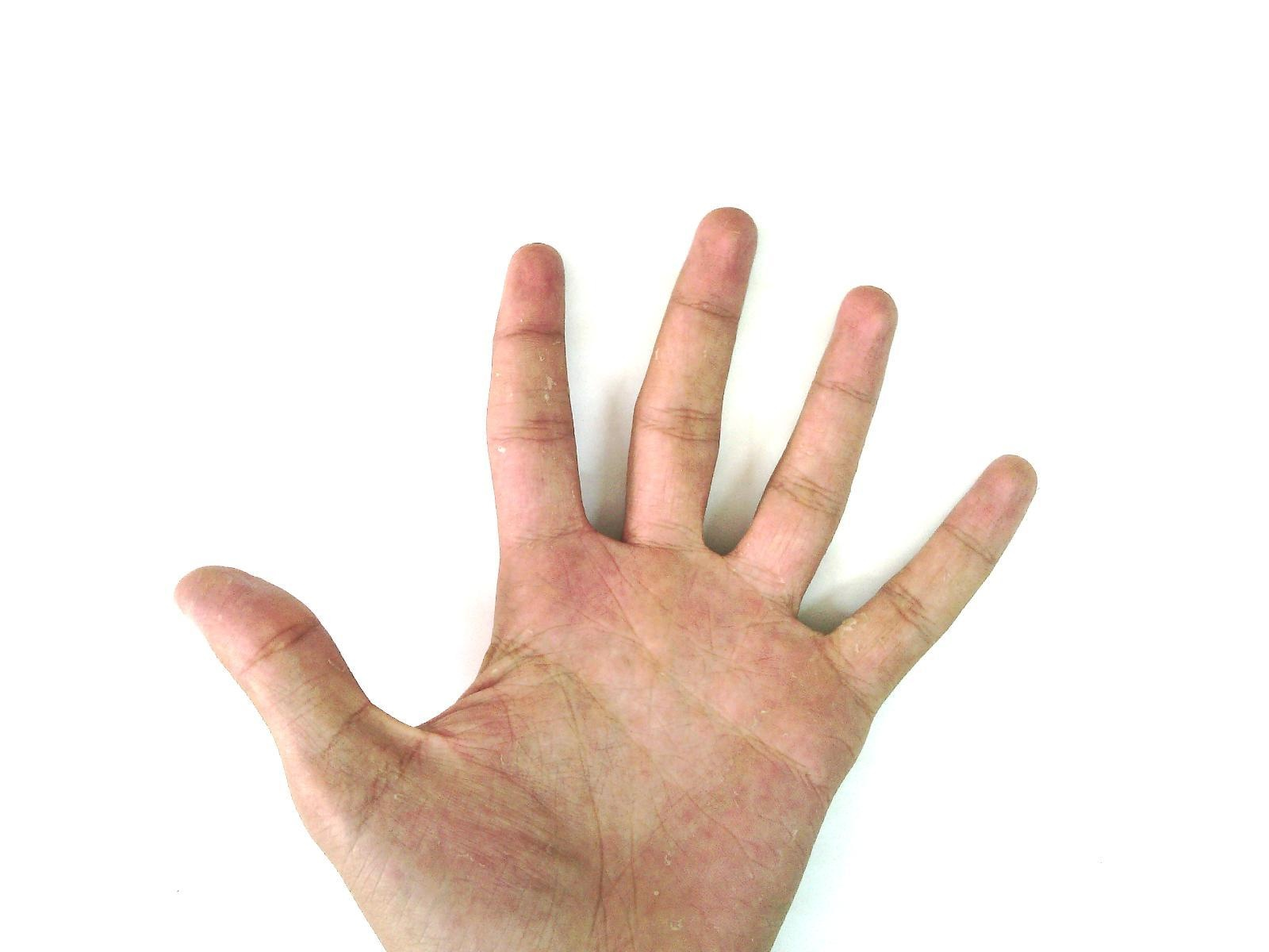open_palm: (173, 205, 1041, 952)
